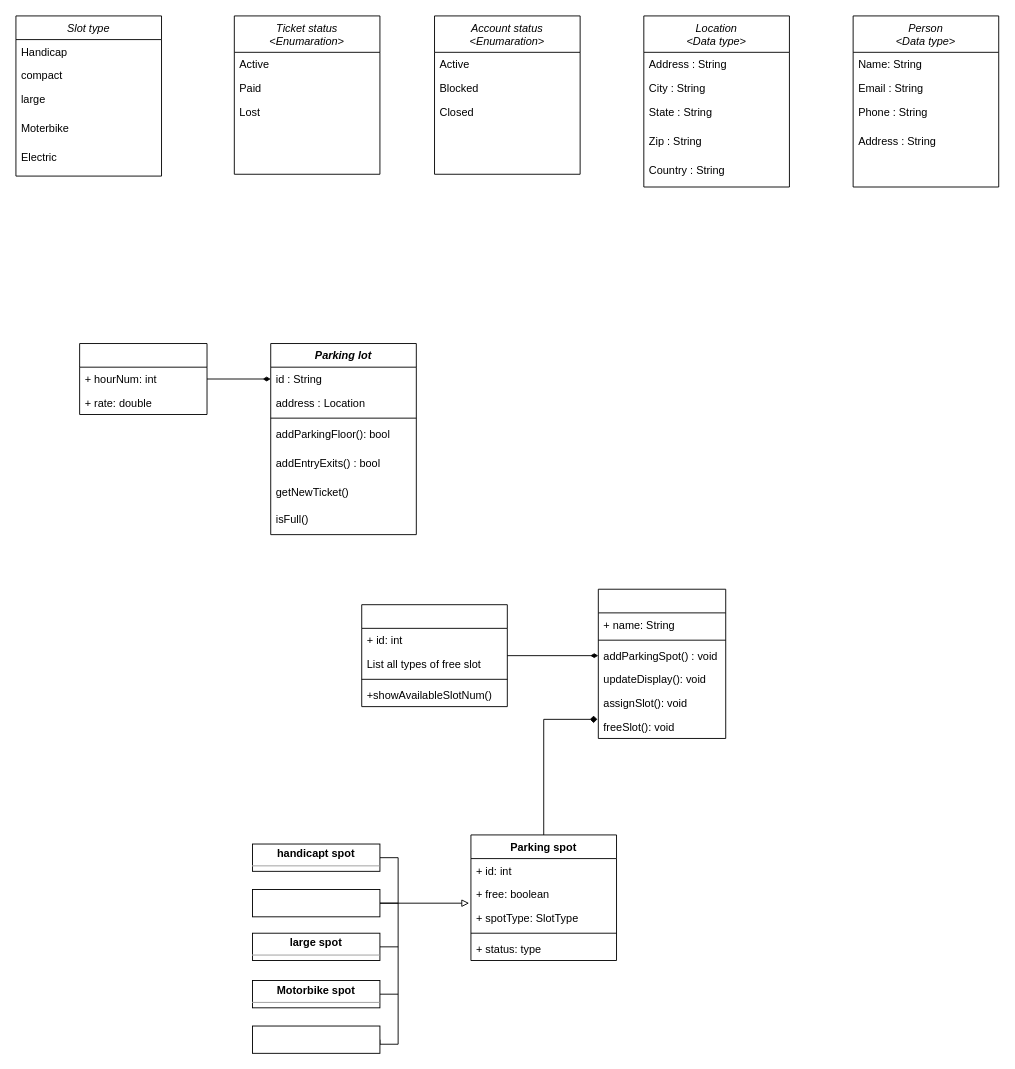
Some shapes in this 1015 by 1069 pixel diagram are drawn without their labels. Each missing label, with the box of its shape:
Compact spot: (252, 889, 380, 917)
Display: (361, 604, 507, 707)
electric spot: (252, 1025, 380, 1053)
Parking floor: (597, 588, 726, 738)
Parking Rate: (79, 343, 207, 415)
